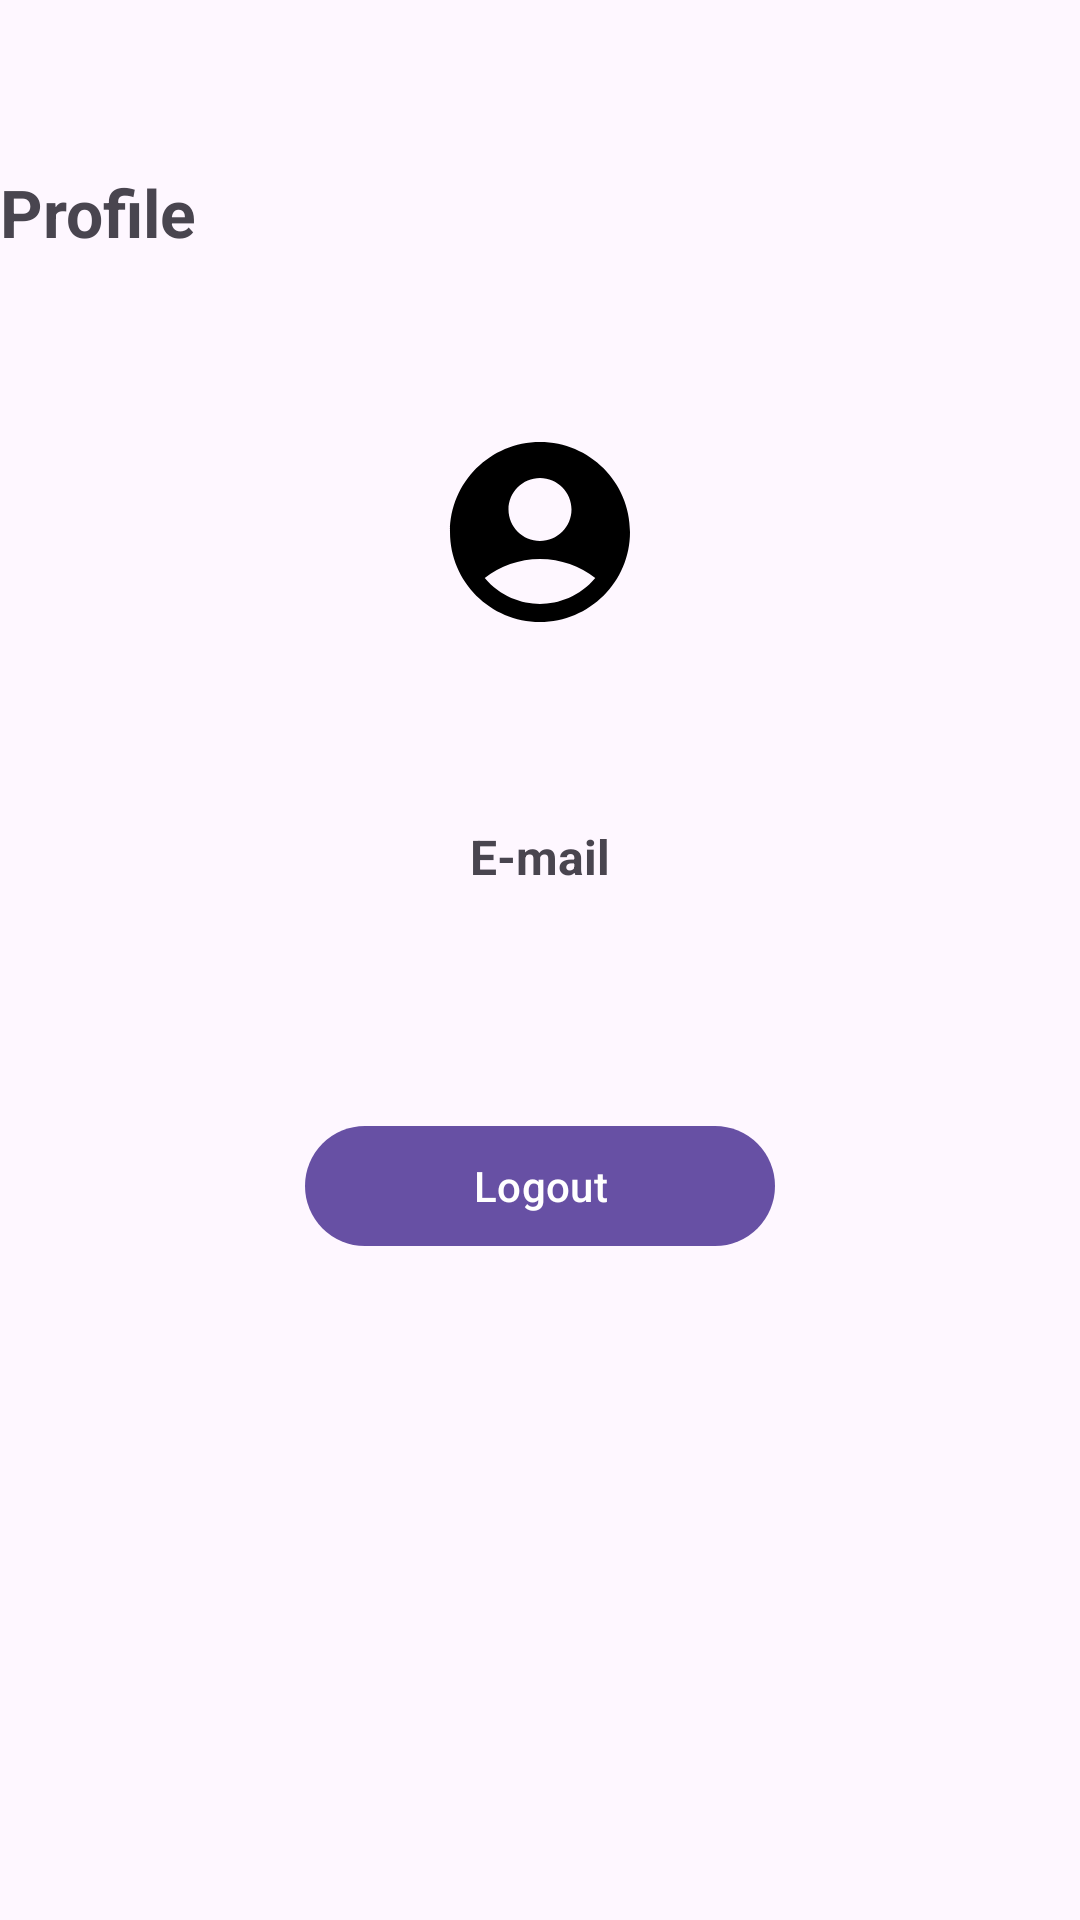

Screen size 1080×1920. Icon name, then its center in pixels as (x,y):
photo account: (539,532)
